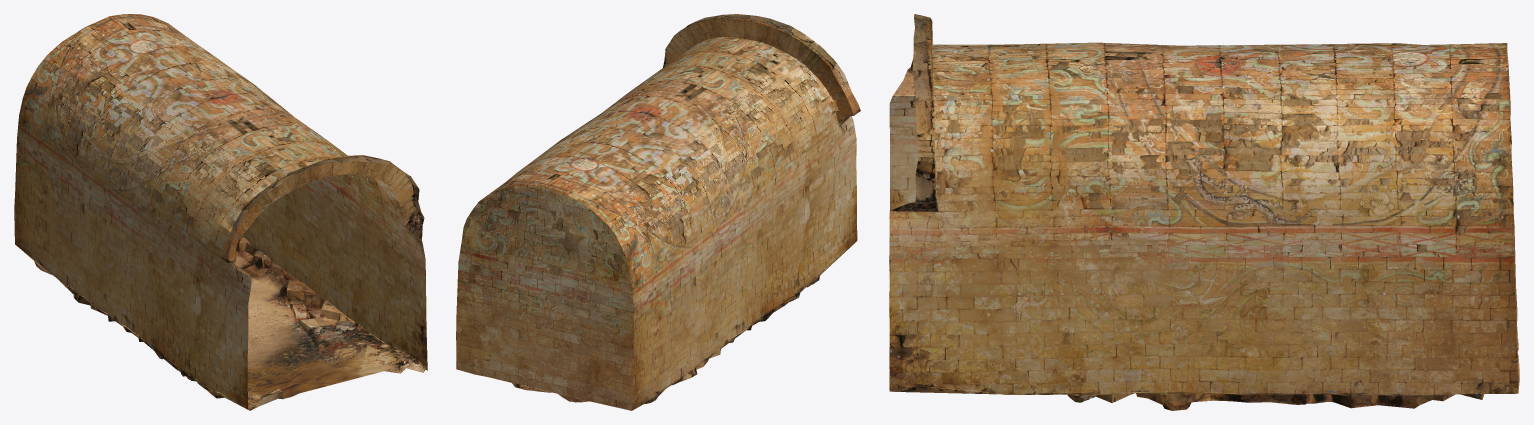
Rendered from envcouta.obj.
3 renders of one model, left to right at view 1: azimuth 30°, elevation 25°; view 2: azimuth 150°, elevation 25°; view 3: azimuth 270°, elevation 25°, orthographic. The views are drawn at different scales.
Parts seen in each view (by area): view 1: envobj; view 2: envobj; view 3: envobj.
Boxes of the visible parts, box(x1,y1,x2,y2) form: envobj: box(14, 14, 427, 410); envobj: box(456, 14, 860, 410); envobj: box(889, 14, 1519, 410).
Bounding box in the file's own units: 1.73 × 1.99 × 3.51.
Materials: 1 (1 with a texture image).
